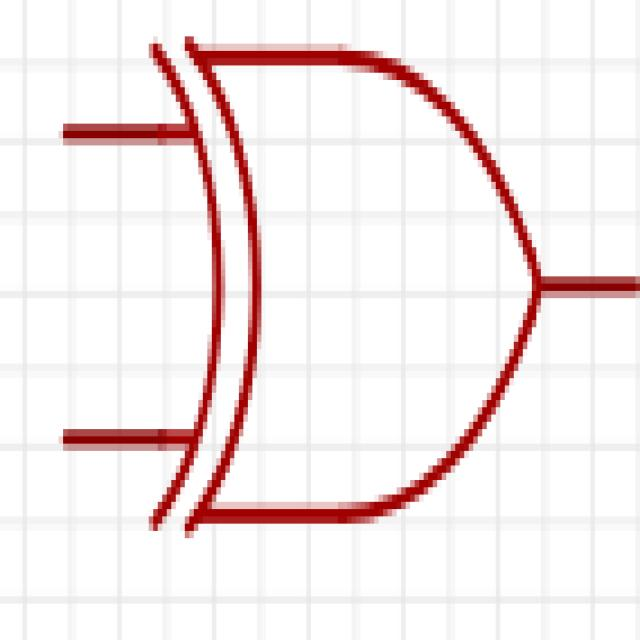xor: (48, 15, 618, 576)
